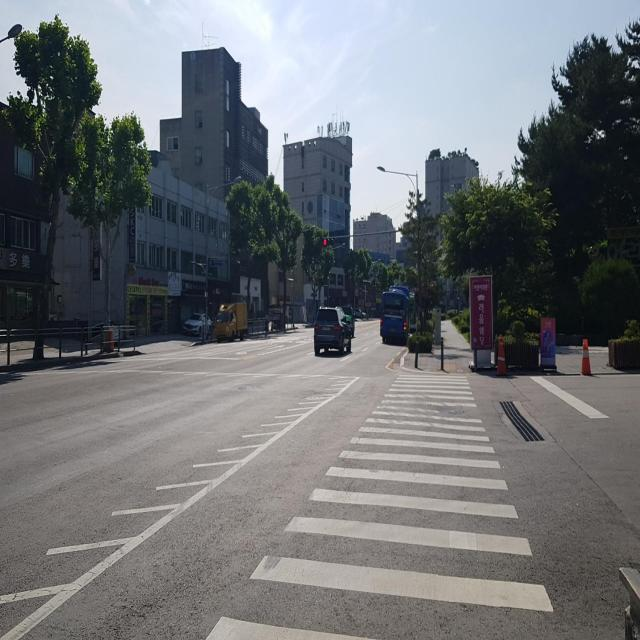횡단보도: (202, 368, 556, 640)
